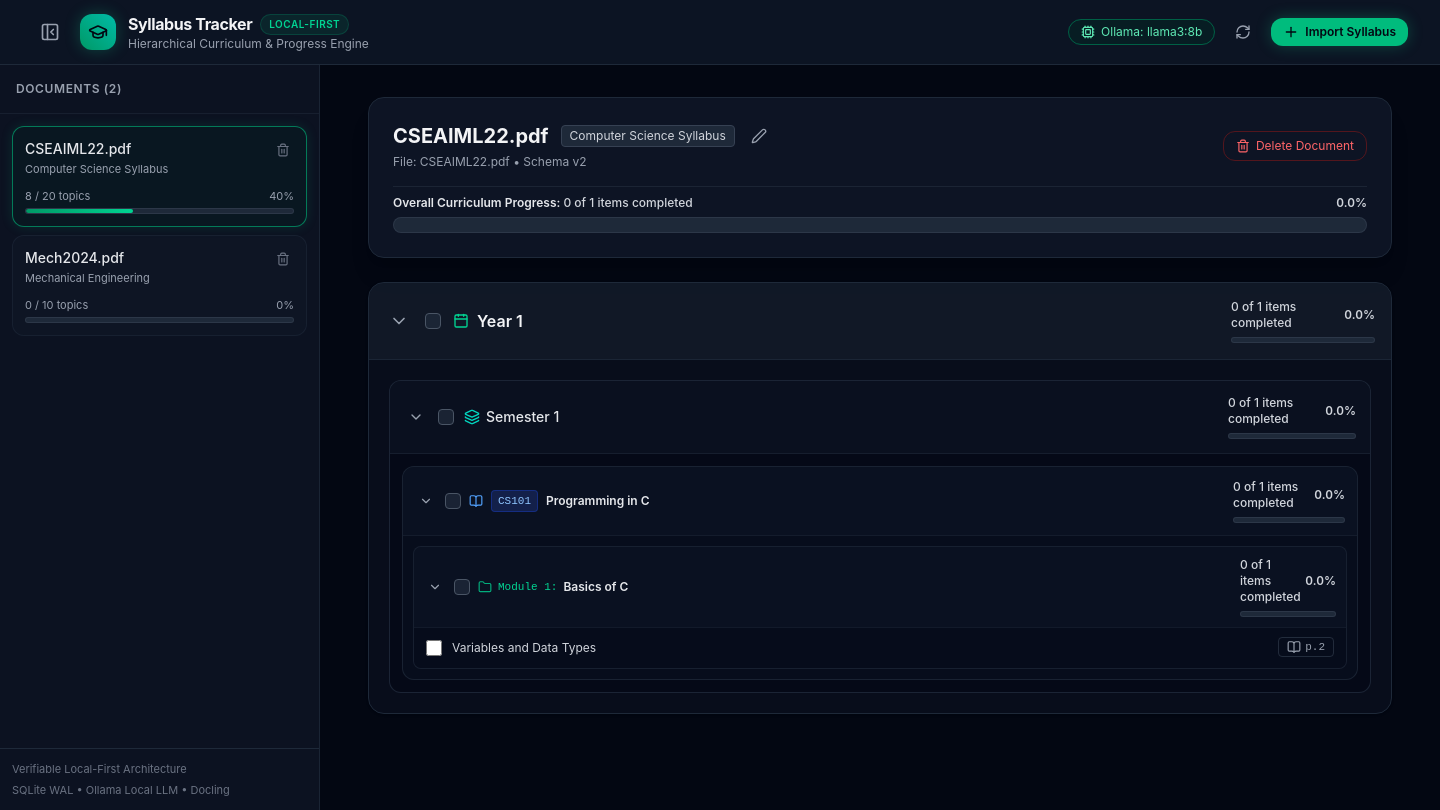
it: App Component Layout, Sidebar Deduplication, and Drawer Interactions › toggles sidebar drawer open and closed with menu button
Note: Click toggle to close
What coordinates should you click on to do the following:
click the button with test id "sidebar-toggle-btn"
I would click on:
 (50, 32)
Its box is top-left (32, 14), bottom-right (68, 50).
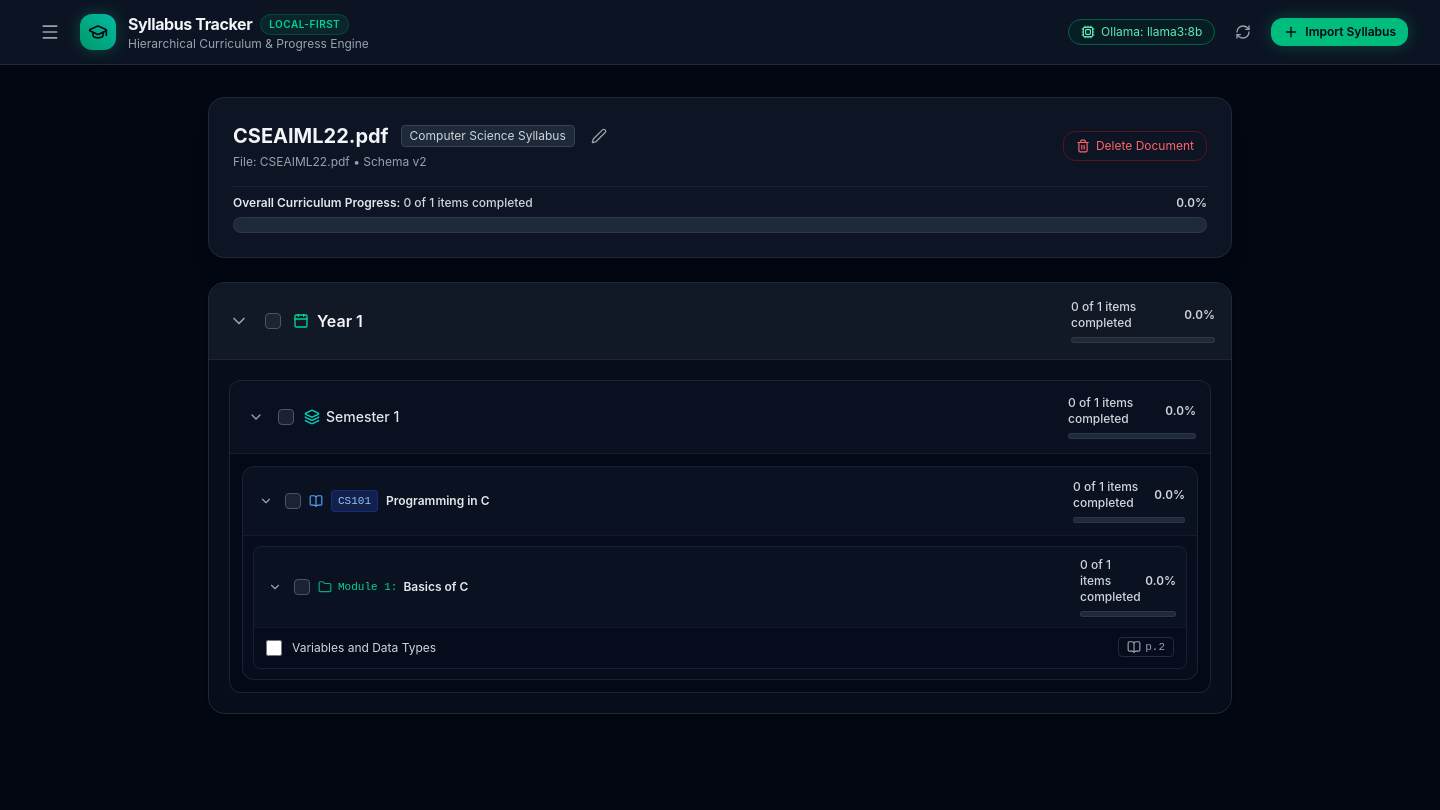
Now the button with test id "sidebar-toggle-btn" is collapsed
Now the button named "Expand sidebar drawer" is shown
Note: Click toggle to reopen
What coordinates should you click on to do the following:
click the button named "Expand sidebar drawer"
I would click on:
 (50, 32)
Its box is top-left (32, 14), bottom-right (68, 50).
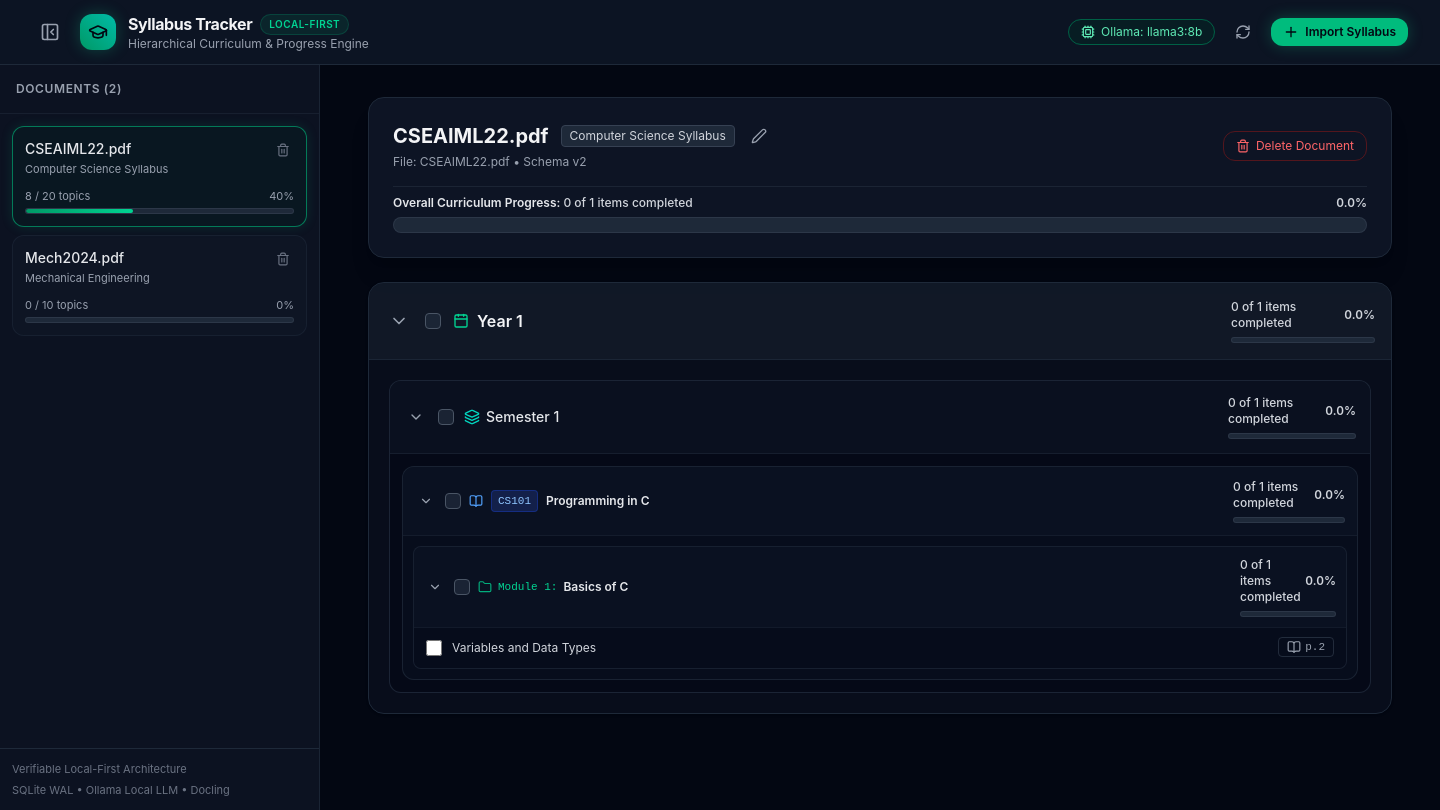
Now the button named "Expand sidebar drawer" is expanded, box top-left (32, 14), bottom-right (68, 50)
